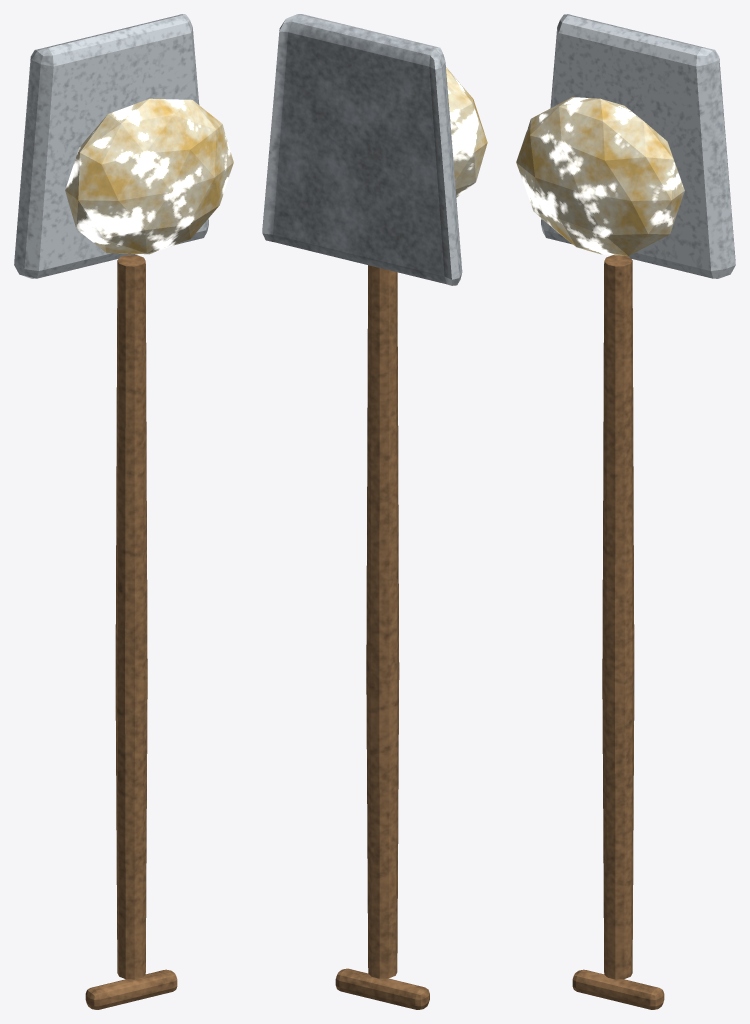
The model's file is Shovel.fbx.
The picture shows the model from 3 angles, left to right: view 1: azimuth 30°, elevation 25°; view 2: azimuth 150°, elevation 25°; view 3: azimuth 330°, elevation 25°; orthographic projection. The views are drawn at different scales.
Parts seen in each view (by area): view 1: Shovel; view 2: Shovel; view 3: Shovel.
Boxes of the visible parts, x1=… form: Shovel: x1=14, y1=14, x2=233, y2=1009; Shovel: x1=262, y1=14, x2=487, y2=1009; Shovel: x1=516, y1=14, x2=735, y2=1009.
Size of the model in its own units: 0.62 by 2.95 by 0.3594.
